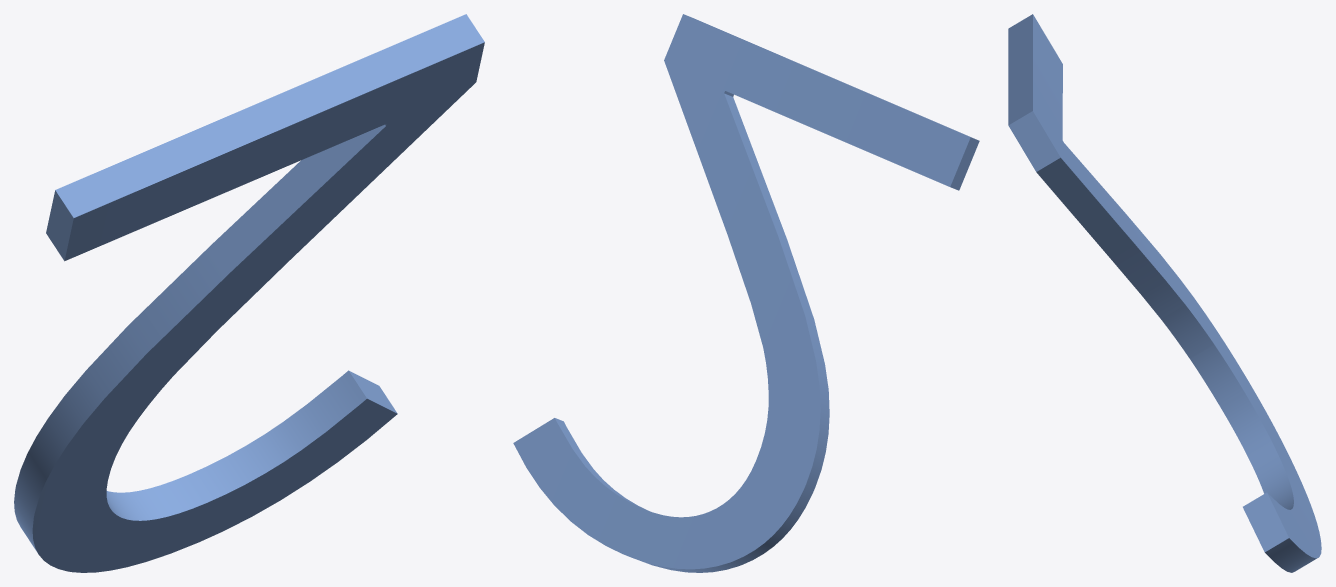
File: New_Number_2.gltf
The picture shows the model from 3 angles, left to right: view 1: azimuth 30°, elevation 25°; view 2: azimuth 150°, elevation 25°; view 3: azimuth 270°, elevation 25°; orthographic projection. The views are drawn at different scales.
Visible parts, largest first — view 1: Part 29; view 2: Part 29; view 3: Part 29.
Boxes of the visible parts, <box> form: Part 29: <box>14,14,484,572</box>; Part 29: <box>513,14,979,572</box>; Part 29: <box>1008,14,1321,572</box>.
Size of the model in its own units: 0.0039 by 0.00481 by 0.00277.
